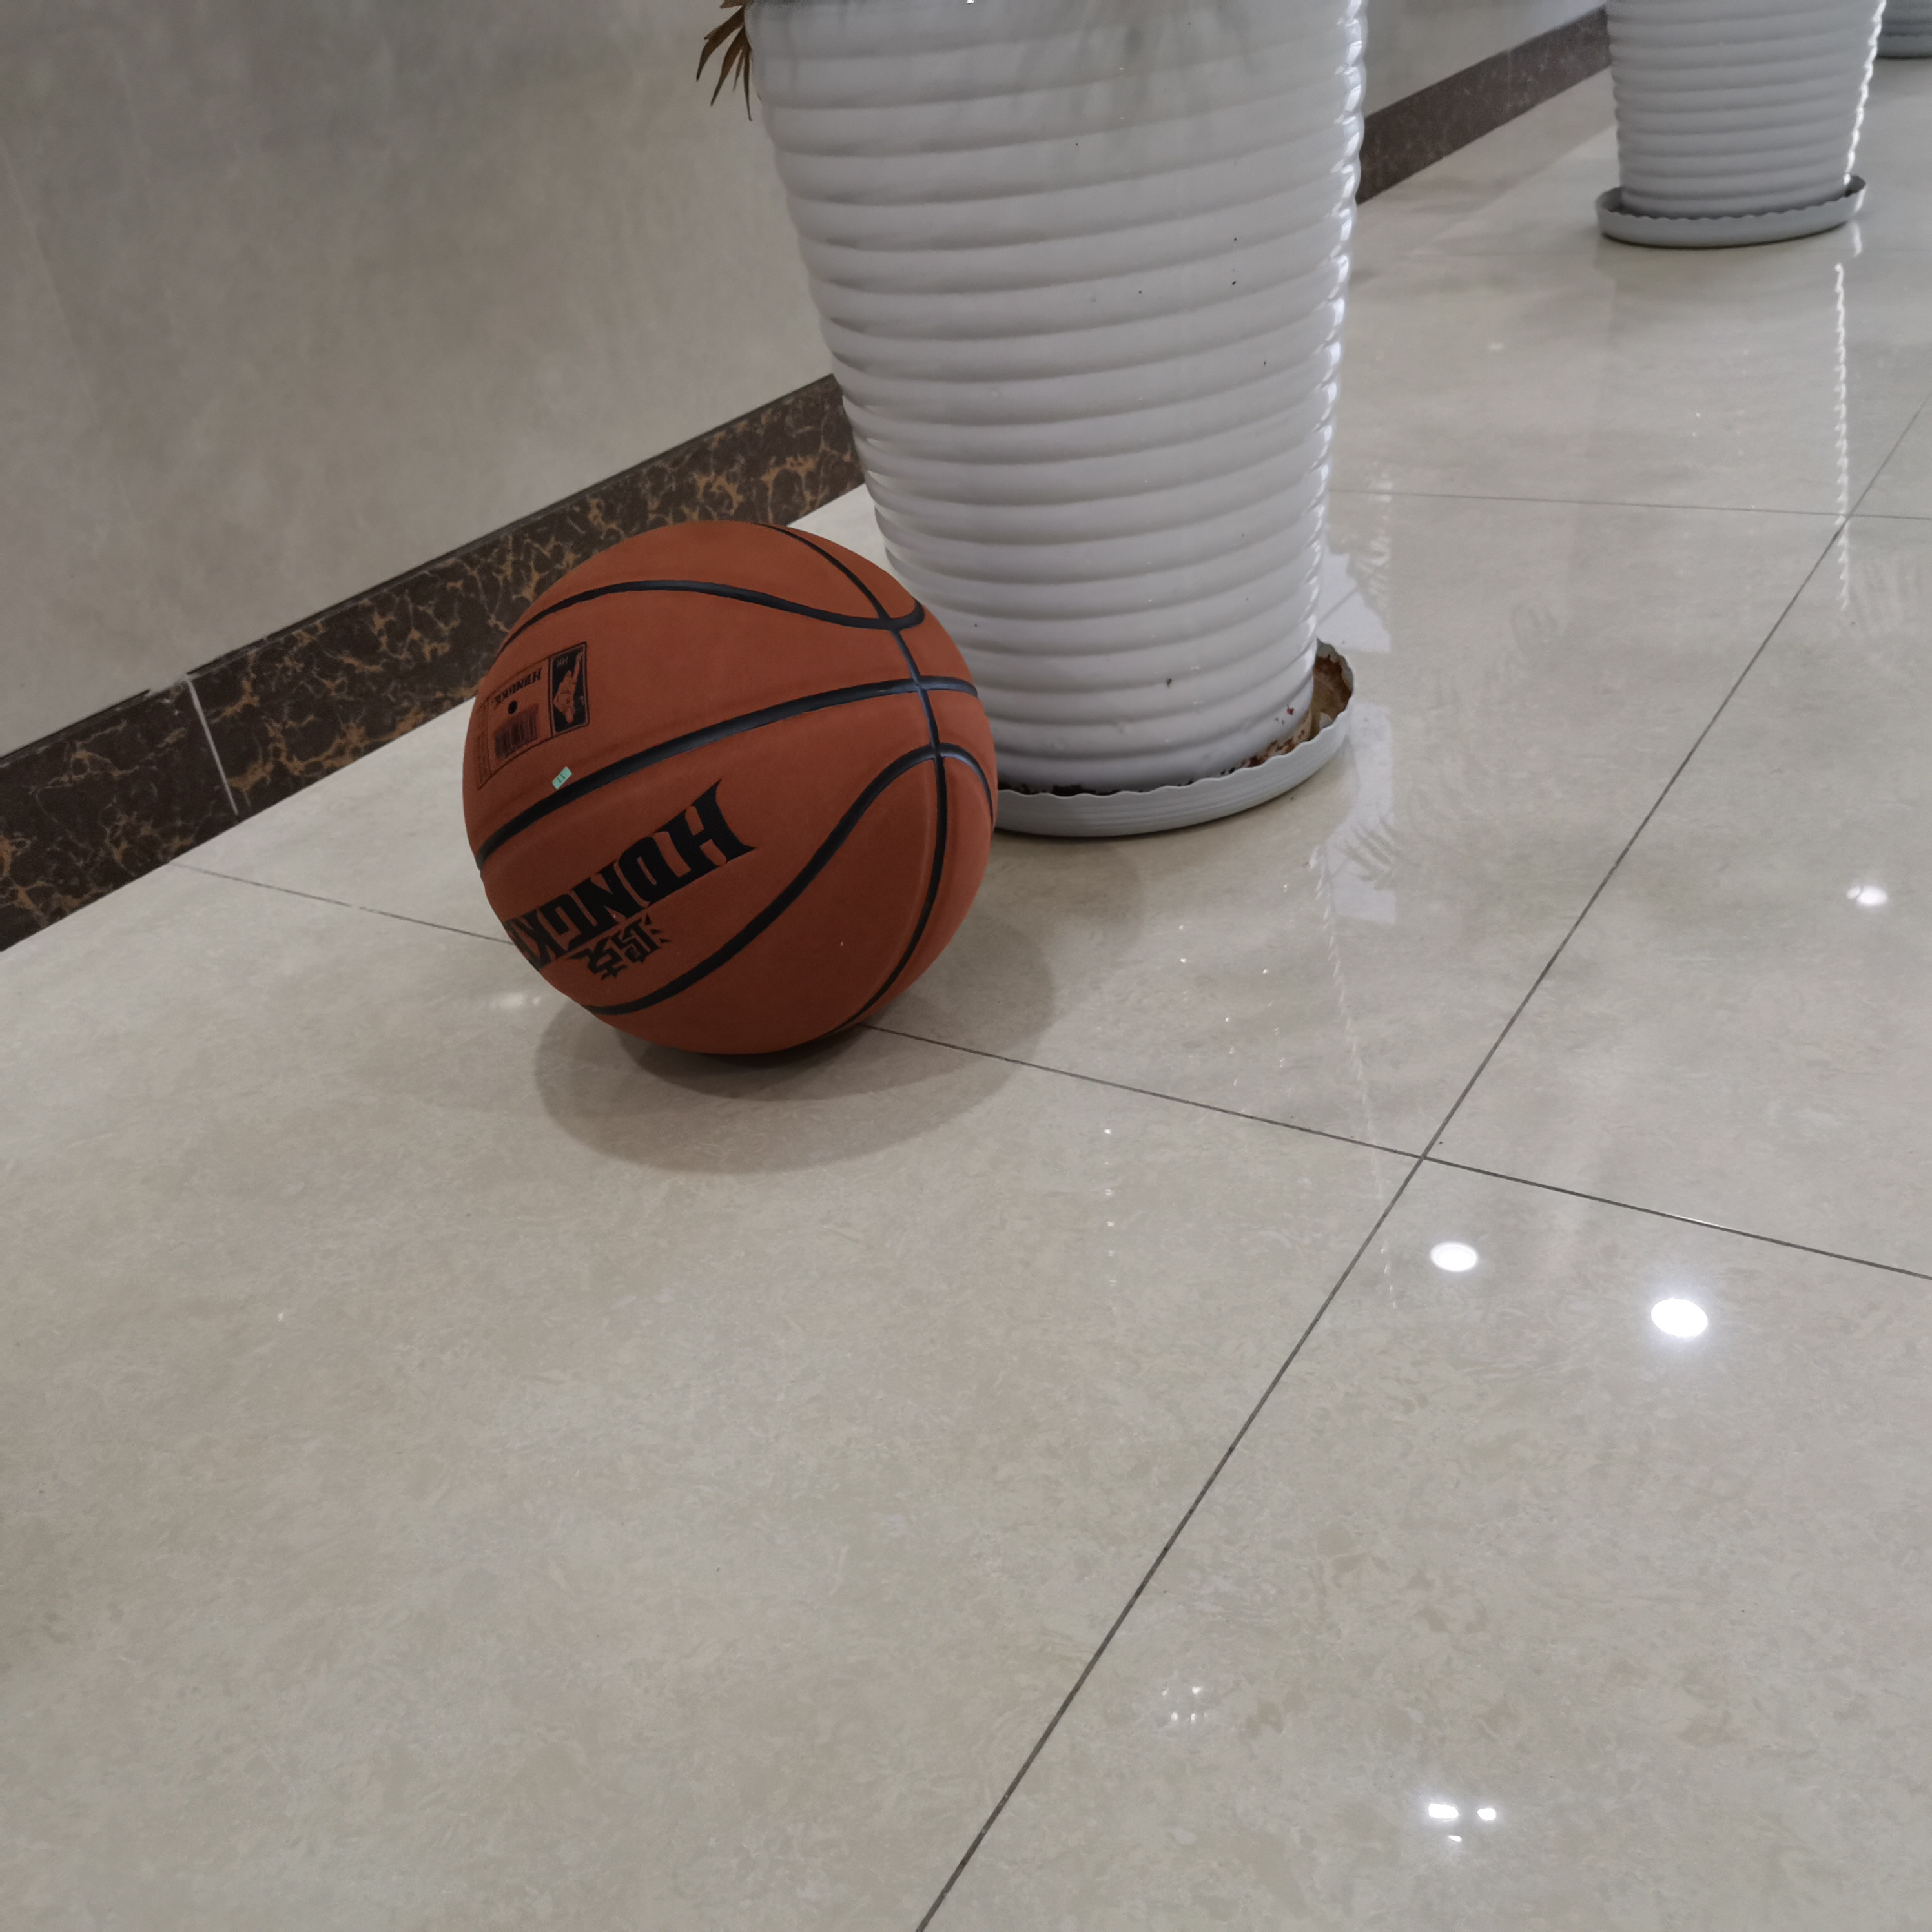basketball: (458, 522, 998, 1062)
